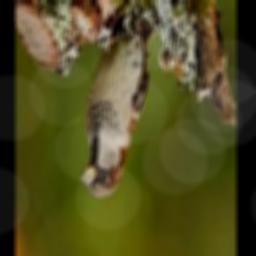Sparrow: (80, 18, 156, 197)
